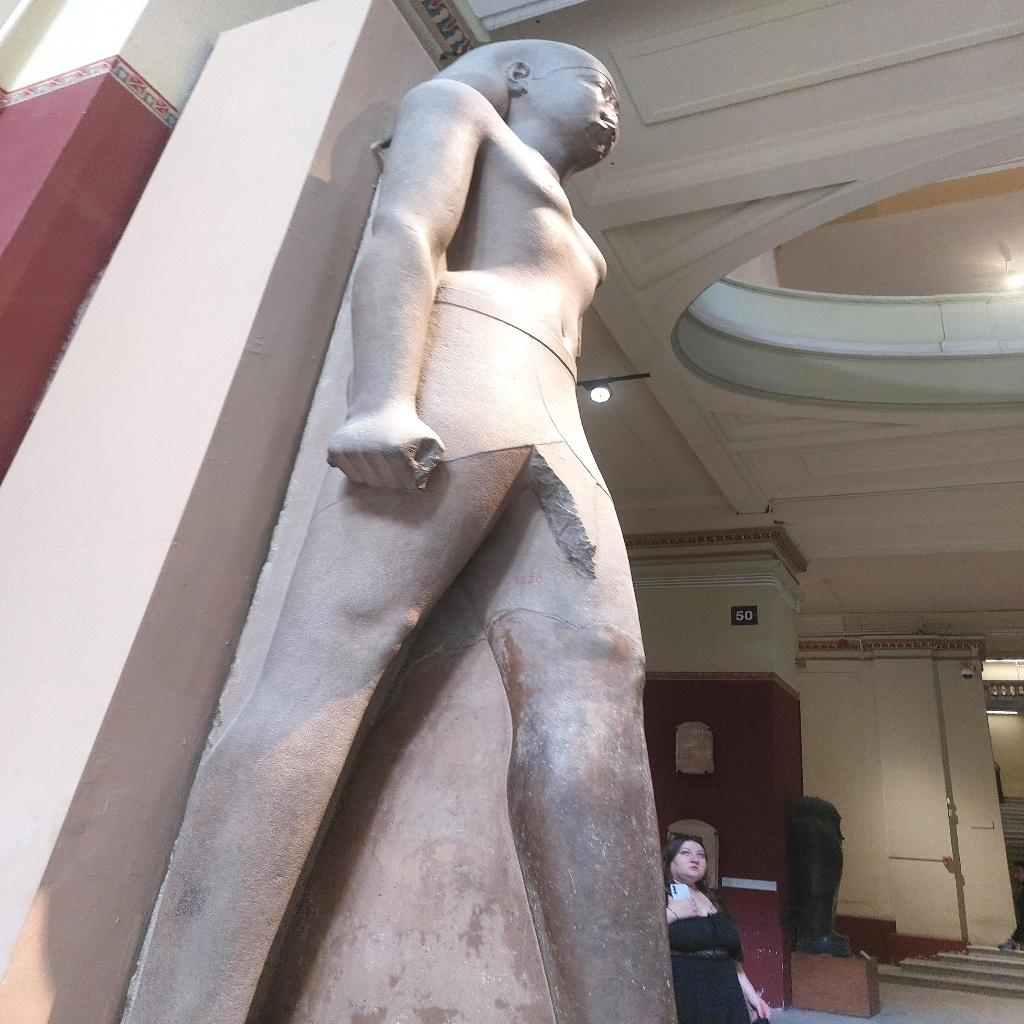Colossal Statue of Hormoheb: (116, 35, 684, 1020)
